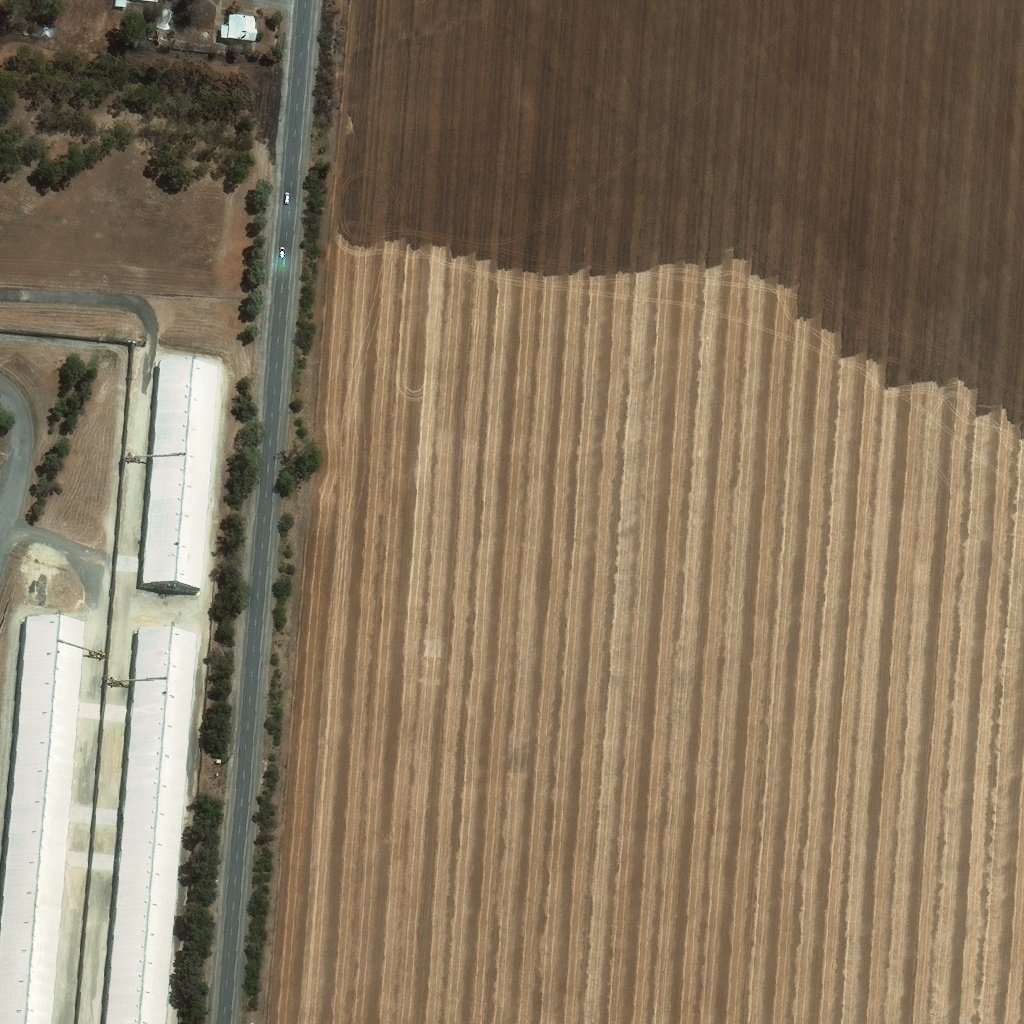0 no-damage: (106, 628, 199, 1023), (0, 617, 85, 1023), (141, 358, 221, 592), (221, 11, 259, 39), (116, 0, 129, 4)
4 un-classified: (158, 31, 178, 44)
